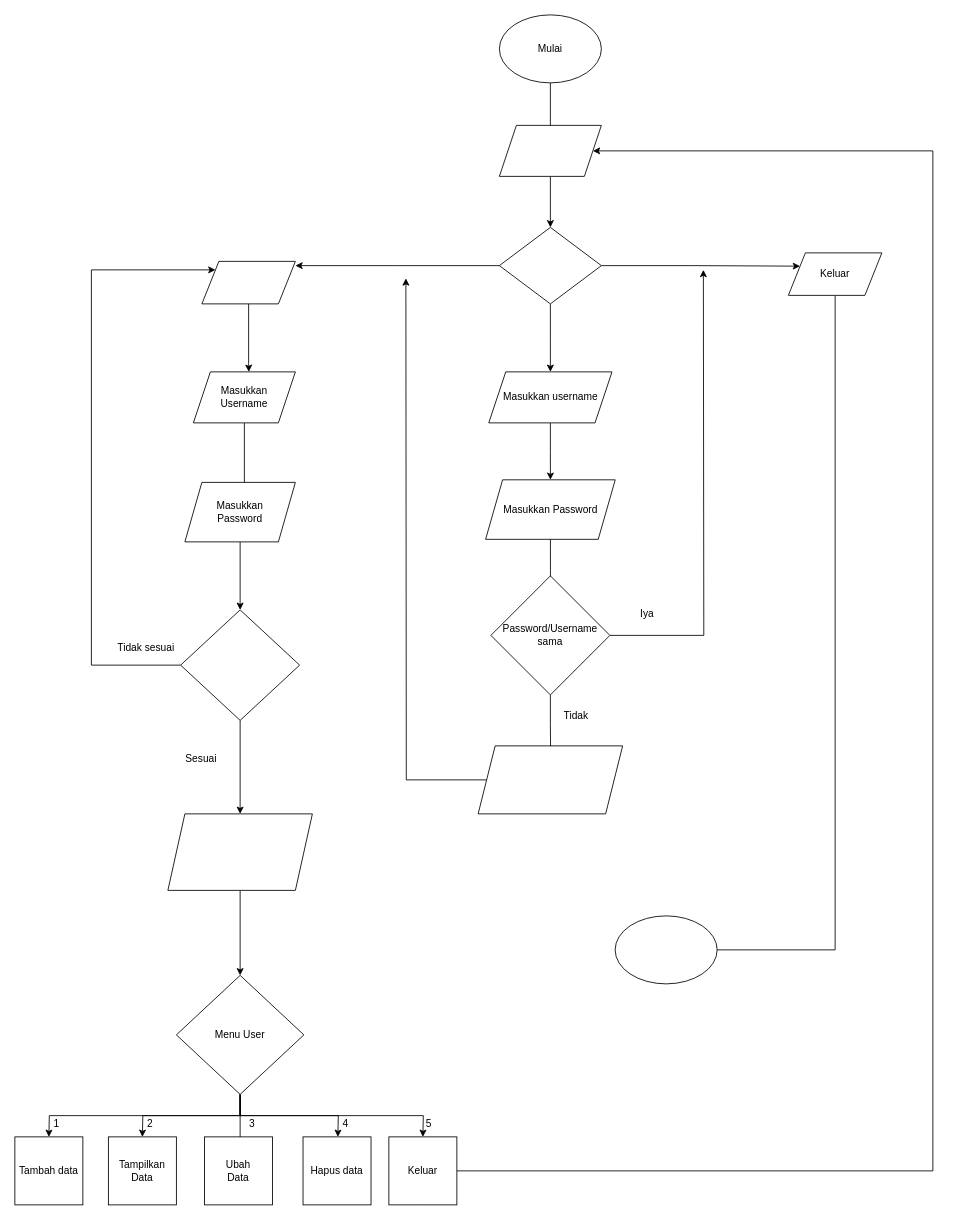
This 955x1227 diagram has some shape labels left out. The shapes that lost their labels are listed below. From the top down, each one's centre as x and y in pixels, then its label:
At point (550, 150): "Menu".
At point (248, 282): "Login".
At point (550, 265): "DaftarAkun".
At point (240, 664): "Username/Password sesuai atau tidak sesuai".
At point (550, 779): "Pendaftaran Berhasil".
At point (239, 851): "Berhasil Login".
At point (665, 949): "END".
